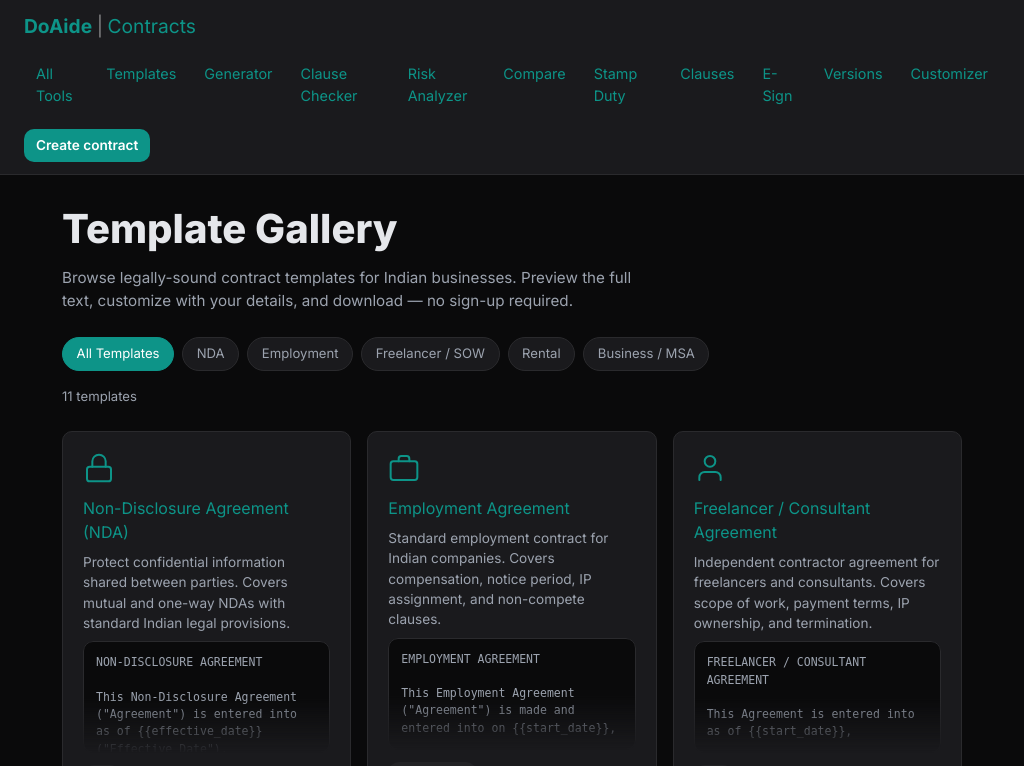
Test: FreeTemplatesPage › filters templates by category
Click the tab "NDA" at [211, 354], box [182,337,239,371]
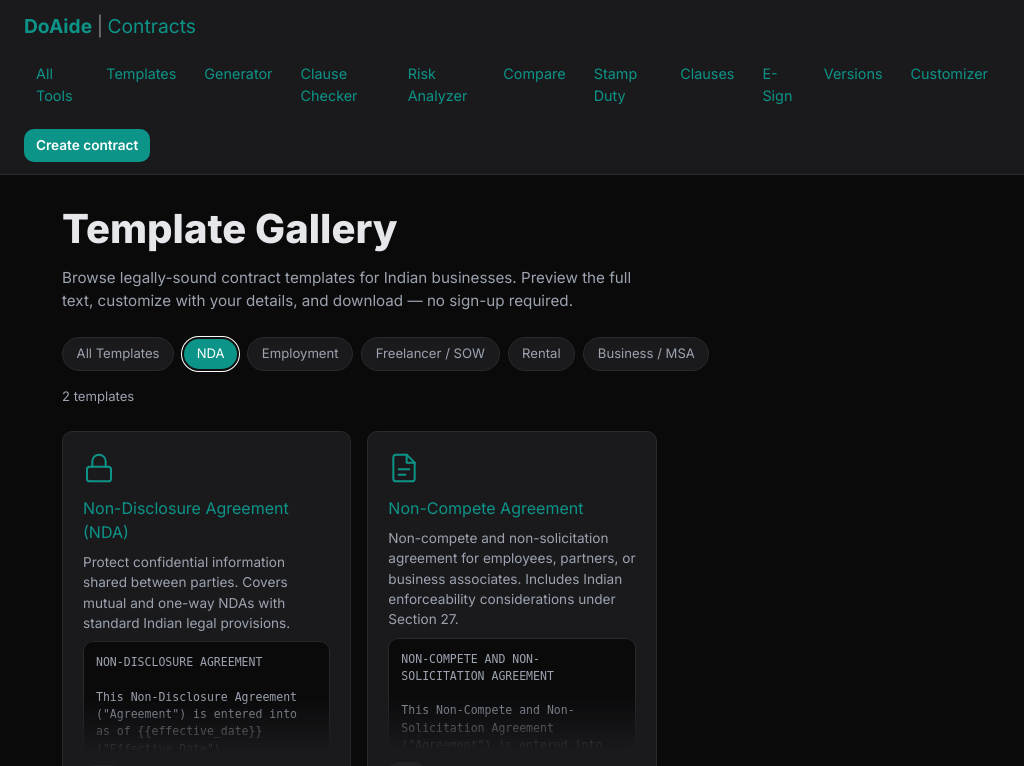
Expected: the text "2 templates" is shown, [62,388,134,404]
